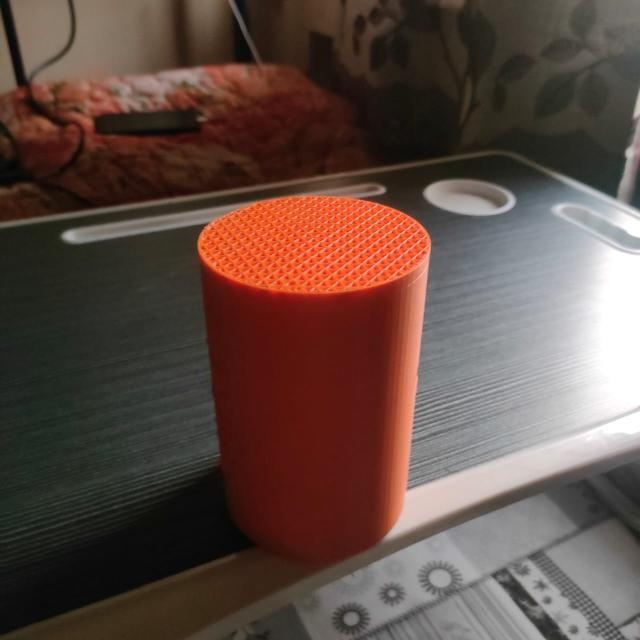Cylinder: (196, 194, 432, 564)
